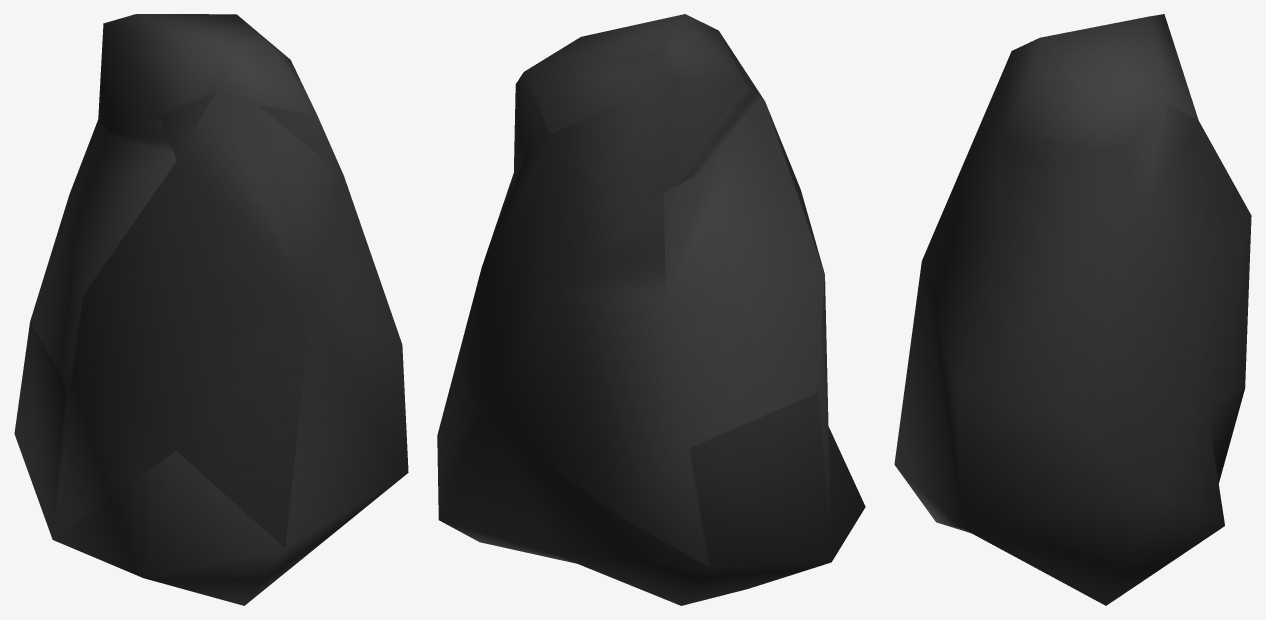
File: batu.fbx
3 views of the same model, side by side, from view 1: azimuth 30°, elevation 25°; view 2: azimuth 150°, elevation 25°; view 3: azimuth 270°, elevation 25° (orthographic). The views are drawn at different scales.
Parts seen in each view (by area): view 1: batu; view 2: batu; view 3: batu.
Part boxes in pixels (box(x1,y1,x2,y2)): batu: box(14, 14, 408, 605); batu: box(437, 14, 865, 605); batu: box(894, 14, 1251, 605).
Size of the model in its own units: 331 by 537 by 329.
1 material, 1 textured.
